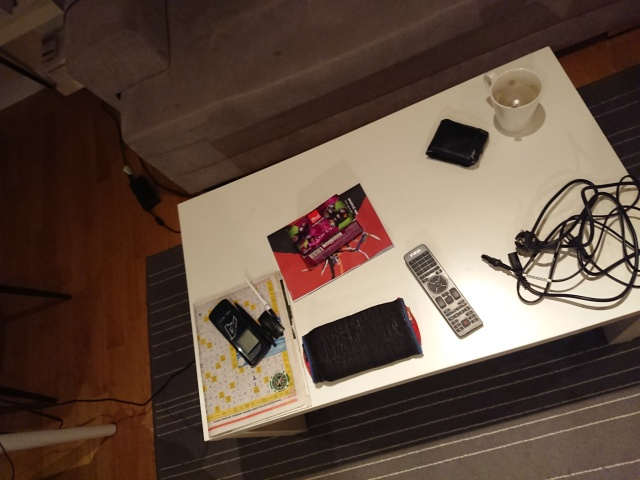Franck Black Currant Tea 60g: (282, 192, 366, 268)
